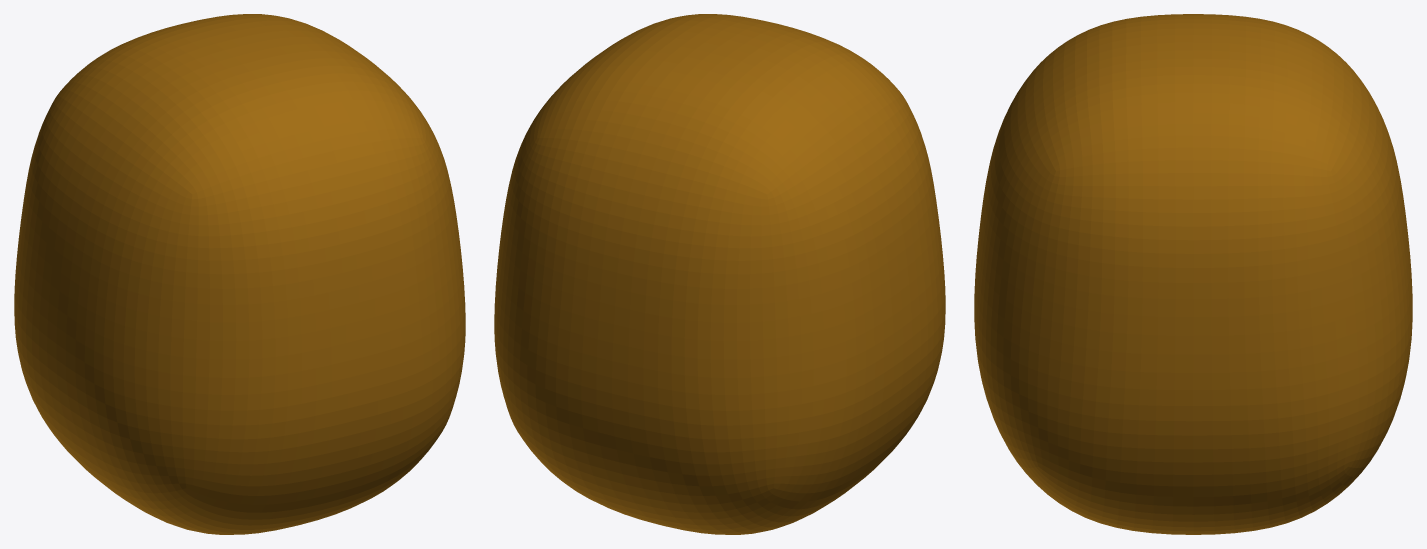
Rendered from Orange.fbx.
The picture shows the model from 3 angles, left to right: view 1: azimuth 30°, elevation 25°; view 2: azimuth 150°, elevation 25°; view 3: azimuth 270°, elevation 25°; orthographic projection.
Parts seen in each view (by area): view 1: Cube; view 2: Cube; view 3: Cube.
Part boxes in pixels (box(x1,y1,x2,y2)): Cube: box(14, 14, 465, 534); Cube: box(494, 14, 945, 534); Cube: box(974, 14, 1412, 534).
Size of the model in its own units: 15.95 by 18.98 by 16.23.
